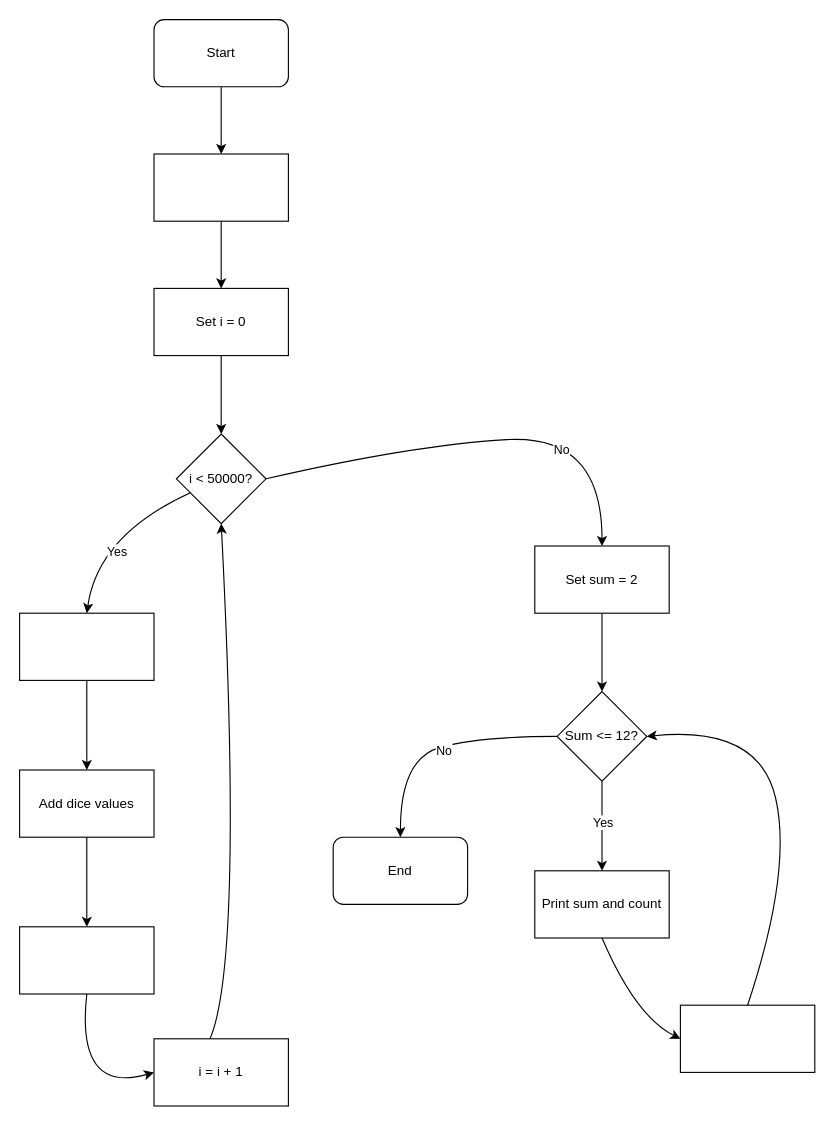
Image size: 834x1126. Some labels were removed from this diagram. Here are the shapes that lost their labels. From the top down, the centre of each, then its label:
(x=220, y=187): Make a counter array for sums 2-12
(x=86, y=646): Roll two dice
(x=86, y=960): Count that sum
(x=747, y=1038): Sum = sum + 1
